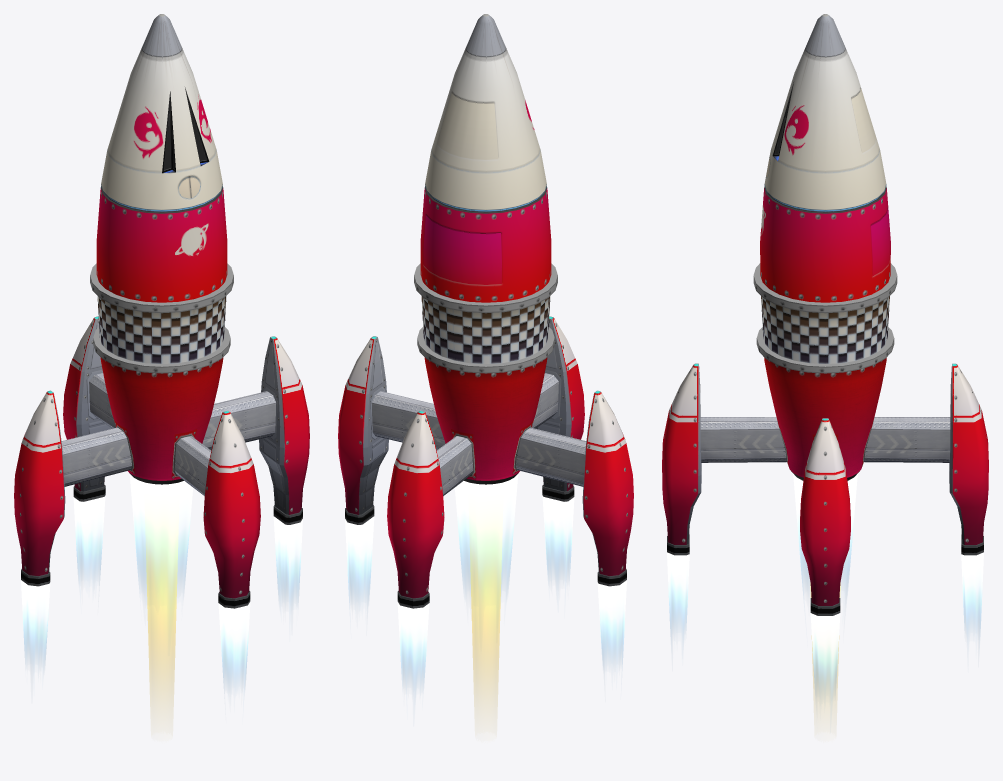
File: rocket.glb
3 renders of one model, left to right at view 1: azimuth 30°, elevation 25°; view 2: azimuth 150°, elevation 25°; view 3: azimuth 270°, elevation 25°, orthographic.
Parts seen in each view (by area): view 1: Hull, Strut4, Strut1, Strut2, Blast1, Blast2, Strut3, StrutBlast3, StrutBlast1, StrutBlast4, StrutBlast2; view 2: Hull, Strut4, Strut3, Strut2, Blast1, Blast2, Strut1, StrutBlast1, StrutBlast3, StrutBlast4, StrutBlast2; view 3: Hull, Strut1, Strut3, Strut2, StrutBlast2, StrutBlast1, StrutBlast3, Blast1, Blast2.
Part boxes in pixels (<box>): Hull: <box>90,14,233,484</box>; Strut4: <box>14,390,135,586</box>; Strut1: <box>171,410,260,608</box>; Strut2: <box>202,336,309,524</box>; Blast1: <box>129,474,192,603</box>; Blast2: <box>145,513,178,705</box>; Strut3: <box>63,316,115,501</box>; StrutBlast3: <box>73,495,105,582</box>; StrutBlast1: <box>218,602,250,689</box>; StrutBlast4: <box>21,580,50,670</box>; StrutBlast2: <box>273,516,302,608</box>; Hull: <box>414,14,557,484</box>; Strut4: <box>512,390,633,586</box>; Strut3: <box>387,410,476,608</box>; Strut2: <box>338,336,445,524</box>; Blast1: <box>455,474,518,598</box>; Blast2: <box>469,514,502,705</box>; Strut1: <box>532,316,584,501</box>; StrutBlast1: <box>542,495,574,586</box>; StrutBlast3: <box>397,602,429,694</box>; StrutBlast4: <box>597,580,626,668</box>; StrutBlast2: <box>345,516,374,603</box>; Hull: <box>753,14,897,480</box>; Strut1: <box>662,363,789,555</box>; Strut3: <box>861,363,988,555</box>; Strut2: <box>800,418,850,615</box>; StrutBlast2: <box>810,613,840,701</box>; StrutBlast1: <box>667,552,689,642</box>; StrutBlast3: <box>961,552,983,640</box>; Blast1: <box>793,473,857,597</box>; Blast2: <box>810,583,840,705</box>.
Bounding box in the file's own units: 38.68 × 97.8 × 38.68.
3 materials, 3 textured.
